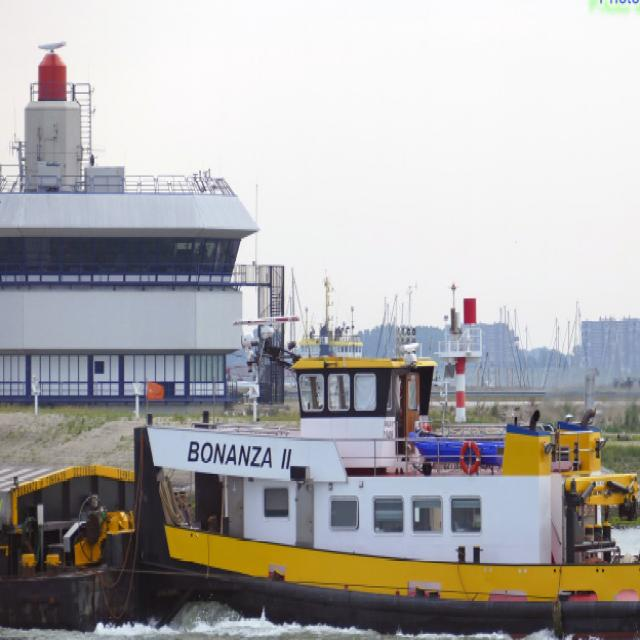tugboat: (128, 336, 640, 640)
